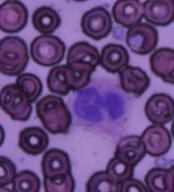N: (67, 75, 136, 136)
